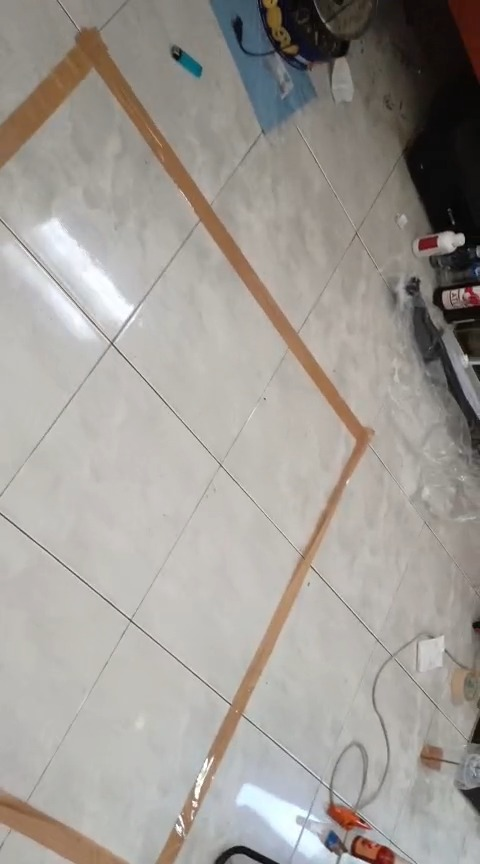floor marking: (0, 29, 372, 863), (0, 792, 126, 863)
